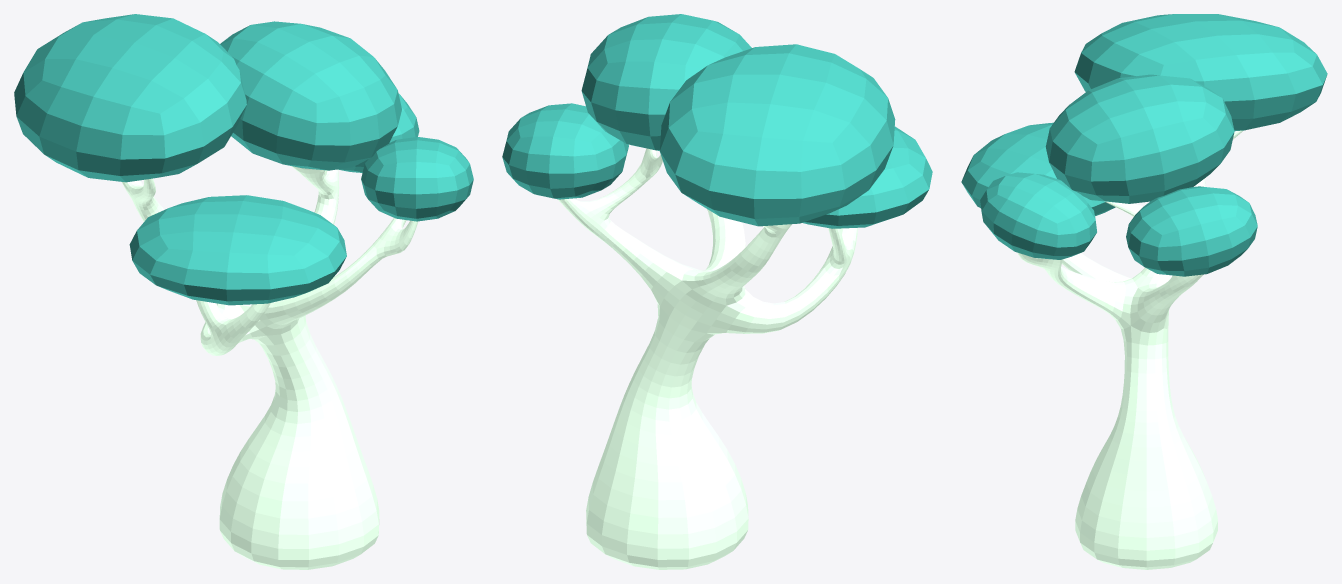
The model's file is Baum_2.fbx.
The picture shows the model from 3 angles, left to right: view 1: azimuth 30°, elevation 25°; view 2: azimuth 150°, elevation 25°; view 3: azimuth 270°, elevation 25°; orthographic projection. The views are drawn at different scales.
Visible parts, largest first — view 1: Cube; view 2: Cube; view 3: Cube.
Part boxes in pixels (x1=…): Cube: x1=14, y1=14, x2=473, y2=569; Cube: x1=502, y1=14, x2=932, y2=569; Cube: x1=961, y1=14, x2=1327, y2=569.
Bounding box in the file's own units: 1478 × 2033 × 1433.
